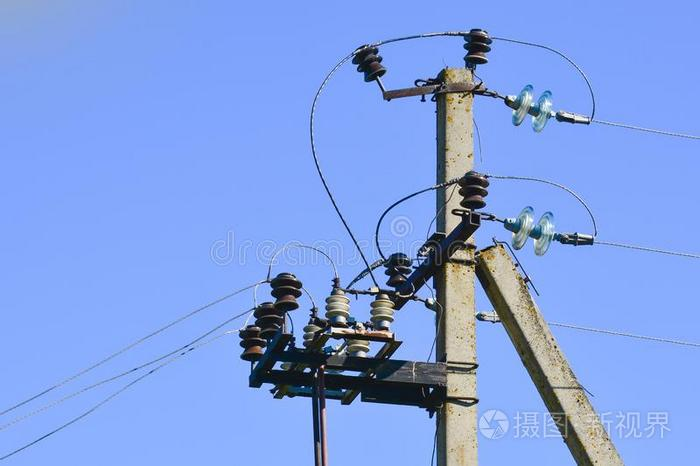insulator: (509, 205, 556, 259), (511, 81, 554, 132), (352, 45, 389, 82), (238, 324, 269, 362), (457, 174, 490, 209), (272, 275, 303, 312), (383, 251, 413, 289), (256, 302, 282, 339), (367, 298, 397, 326), (464, 31, 490, 62), (323, 294, 352, 320)
